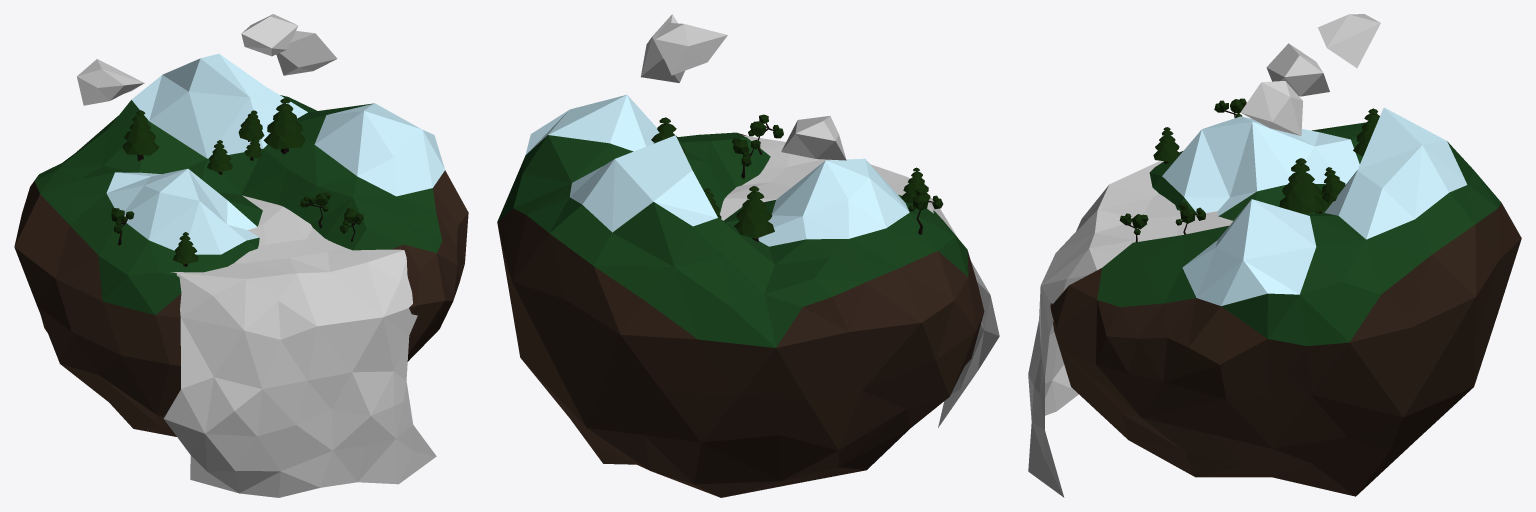
The model's file is Island2.obj.
The picture shows the model from 3 angles, left to right: view 1: azimuth 30°, elevation 25°; view 2: azimuth 150°, elevation 25°; view 3: azimuth 270°, elevation 25°; orthographic projection. The views are drawn at different scales.
Visible parts, largest first — view 1: Island_Icosphere, Water_Plane, Cloud.001_Icosphere.007, Cloud_Icosphere.009, Cloud.002_Icosphere.008, Pine_Tree_Icosphere.003, Pine_Tree.002_Icosphere.005, Pine_Tree.001_Icosphere.004, Pine_Tree.003_Icosphere.006, Pine_Tree.004_Icosphere.004; view 2: Island_Icosphere, Water_Plane, Cloud.002_Icosphere.008, Cloud.001_Icosphere.007, Pine_Tree.002_Icosphere.005, Cloud_Icosphere.009; view 3: Island_Icosphere, Water_Plane, Cloud_Icosphere.009, Cloud.001_Icosphere.007, Cloud.002_Icosphere.008, Pine_Tree_Icosphere.003, Pine_Tree.003_Icosphere.006, Pine_Tree.002_Icosphere.005.
Part boxes in pixels (x1,y1,x2,y2): Island_Icosphere: [14, 53, 468, 436]; Water_Plane: [163, 195, 436, 497]; Cloud.001_Icosphere.007: [77, 59, 144, 105]; Cloud_Icosphere.009: [276, 31, 337, 75]; Cloud.002_Icosphere.008: [241, 14, 298, 56]; Pine_Tree_Icosphere.003: [263, 98, 305, 154]; Pine_Tree.002_Icosphere.005: [122, 110, 158, 161]; Pine_Tree.001_Icosphere.004: [207, 140, 232, 174]; Pine_Tree.003_Icosphere.006: [173, 232, 198, 266]; Pine_Tree.004_Icosphere.004: [238, 110, 264, 141]; Island_Icosphere: [497, 95, 984, 497]; Water_Plane: [720, 135, 999, 427]; Cloud.002_Icosphere.008: [655, 22, 727, 75]; Cloud.001_Icosphere.007: [781, 116, 846, 160]; Pine_Tree.002_Icosphere.005: [733, 186, 774, 241]; Cloud_Icosphere.009: [641, 14, 684, 82]; Island_Icosphere: [1050, 107, 1521, 496]; Water_Plane: [1028, 160, 1232, 497]; Cloud_Icosphere.009: [1240, 81, 1303, 135]; Cloud.001_Icosphere.007: [1318, 14, 1380, 68]; Cloud.002_Icosphere.008: [1266, 43, 1329, 96]; Pine_Tree_Icosphere.003: [1279, 158, 1324, 214]; Pine_Tree.003_Icosphere.006: [1153, 127, 1180, 163]; Pine_Tree.002_Icosphere.005: [1353, 108, 1379, 156].
Bounding box in the file's own units: 1.97 × 1.93 × 1.98.
